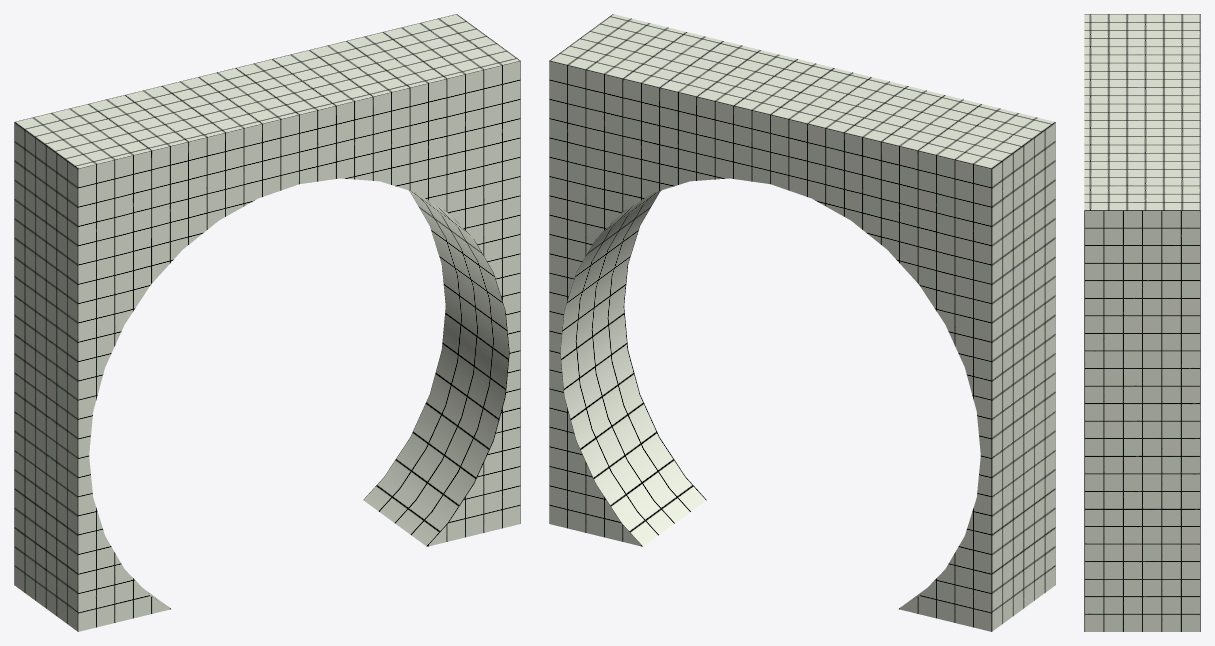
Rendered from Wall_CircleHole.fbx.
3 views of the same model, side by side, from view 1: azimuth 30°, elevation 25°; view 2: azimuth 150°, elevation 25°; view 3: azimuth 270°, elevation 25° (orthographic). The views are drawn at different scales.
Parts seen in each view (by area): view 1: Wall_CircleHole; view 2: Wall_CircleHole; view 3: Wall_CircleHole.
Boxes of the visible parts, left/top/right/bottom form: Wall_CircleHole: left=14, top=14, right=520, bottom=631; Wall_CircleHole: left=549, top=14, right=1055, bottom=631; Wall_CircleHole: left=1084, top=14, right=1200, bottom=631.
Size of the model in its own units: 400 by 400 by 100.
